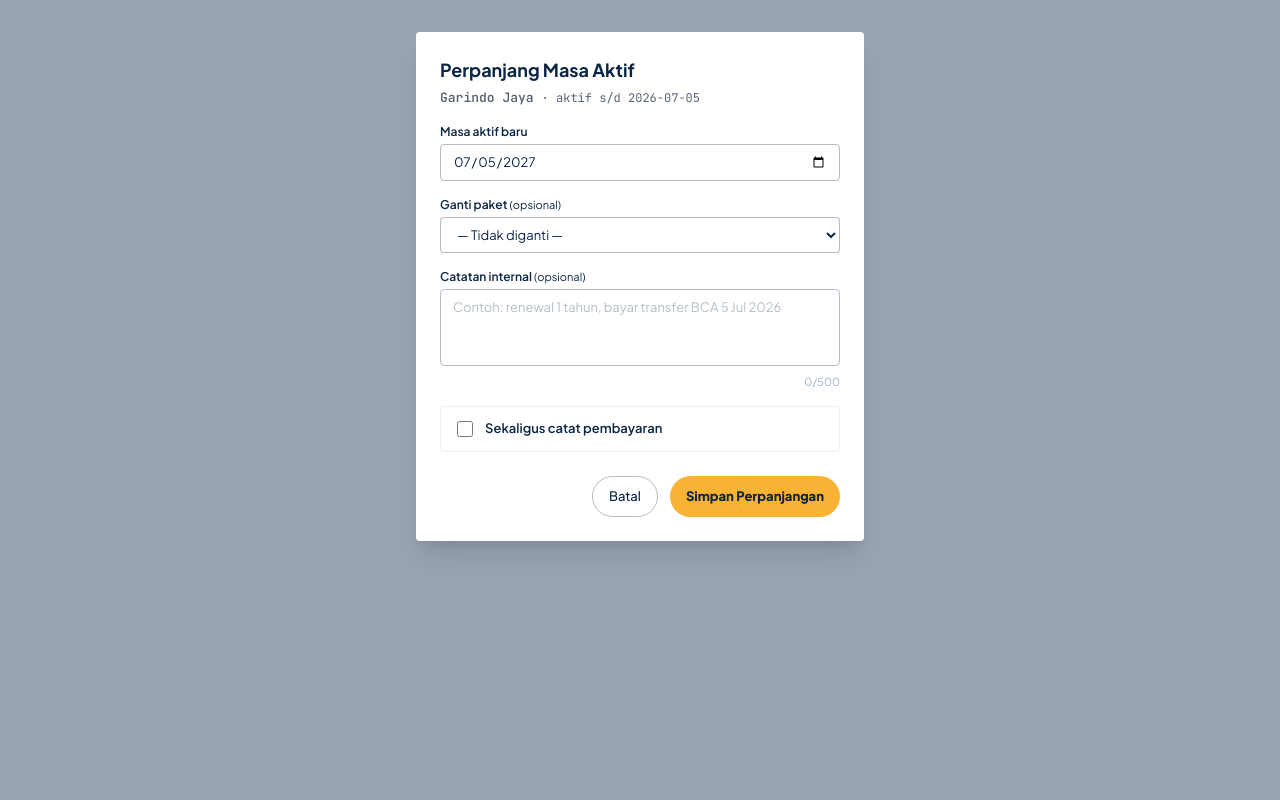
Test: RenewSubscriptionModal › disables submit button while submitting
Step 1. Click the button "Simpan Perpanjangan" → (755, 496), box 670,476 -> 840,517
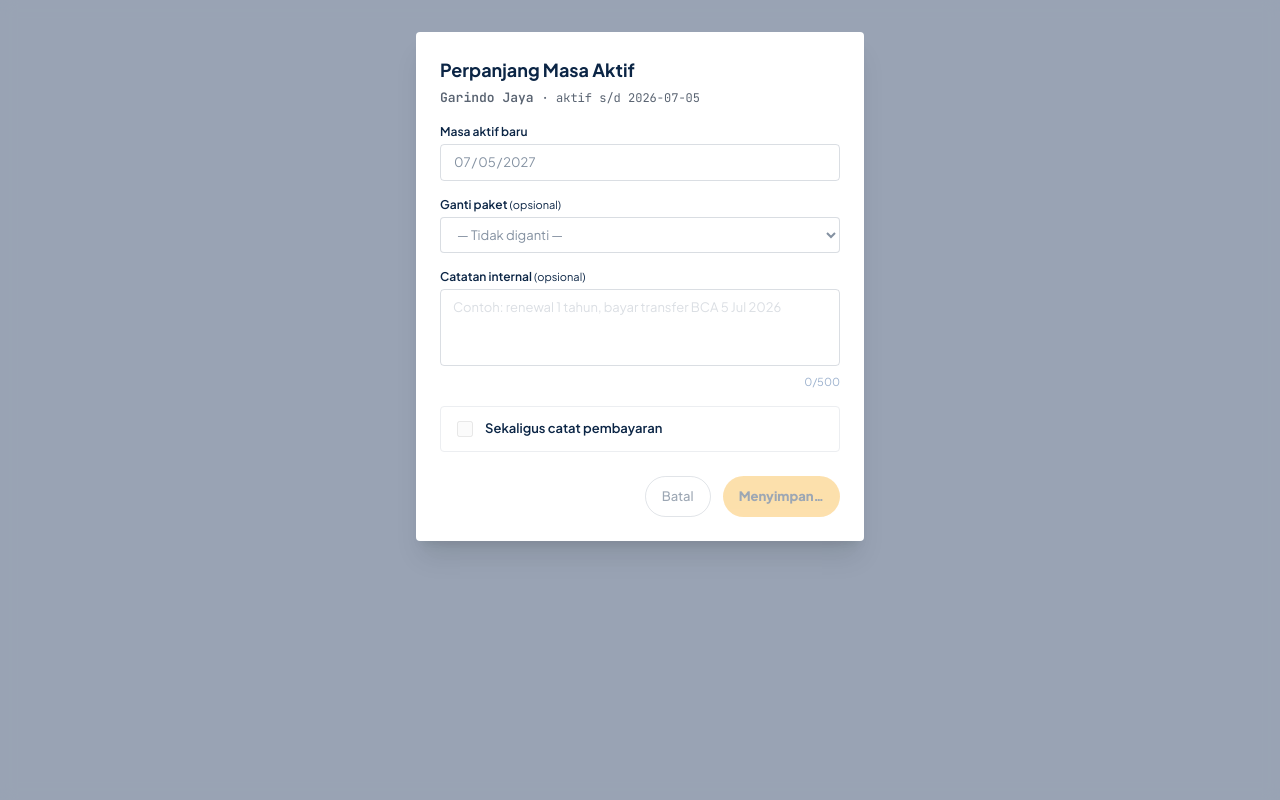
Expected: the button named "simpan perpanjangan" is disabled, 723,476 -> 840,517
